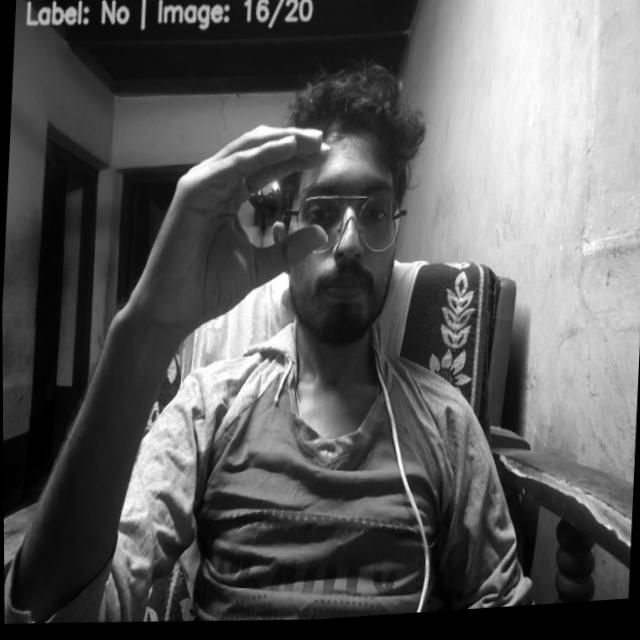No: (136, 116, 339, 344)
